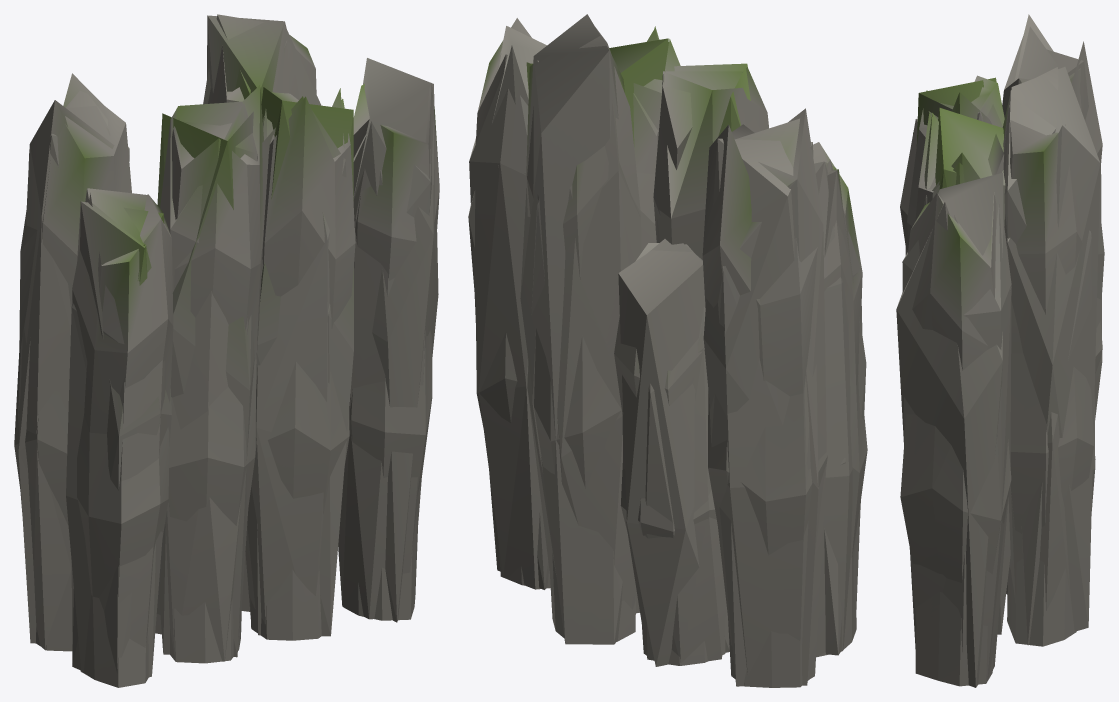
Rendered from Cliff.source-pack-baseline.glb.
The picture shows the model from 3 angles, left to right: view 1: azimuth 30°, elevation 25°; view 2: azimuth 150°, elevation 25°; view 3: azimuth 270°, elevation 25°; orthographic projection. The views are drawn at different scales.
Parts seen in each view (by area): view 1: Cliff_L0, Cliff_L1, Cliff_L2; view 2: Cliff_L1, Cliff_L2, Cliff_L0; view 3: Cliff_L0, Cliff_L2, Cliff_L1.
Boxes of the visible parts, <box> form: Cliff_L0: <box>14,35,439,687</box>; Cliff_L1: <box>18,14,431,672</box>; Cliff_L2: <box>18,15,438,677</box>; Cliff_L1: <box>469,27,862,679</box>; Cliff_L2: <box>468,14,866,686</box>; Cliff_L0: <box>475,18,867,687</box>; Cliff_L0: <box>900,26,1102,686</box>; Cliff_L2: <box>896,49,1104,687</box>; Cliff_L1: <box>902,14,1102,681</box>.
Bounding box in the file's own units: 8.1 × 12 × 4.11.
